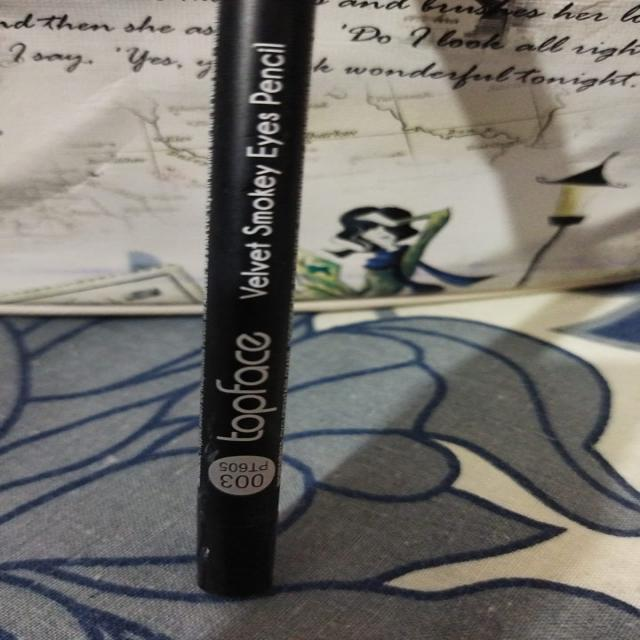eye liner: (147, 0, 371, 608)
